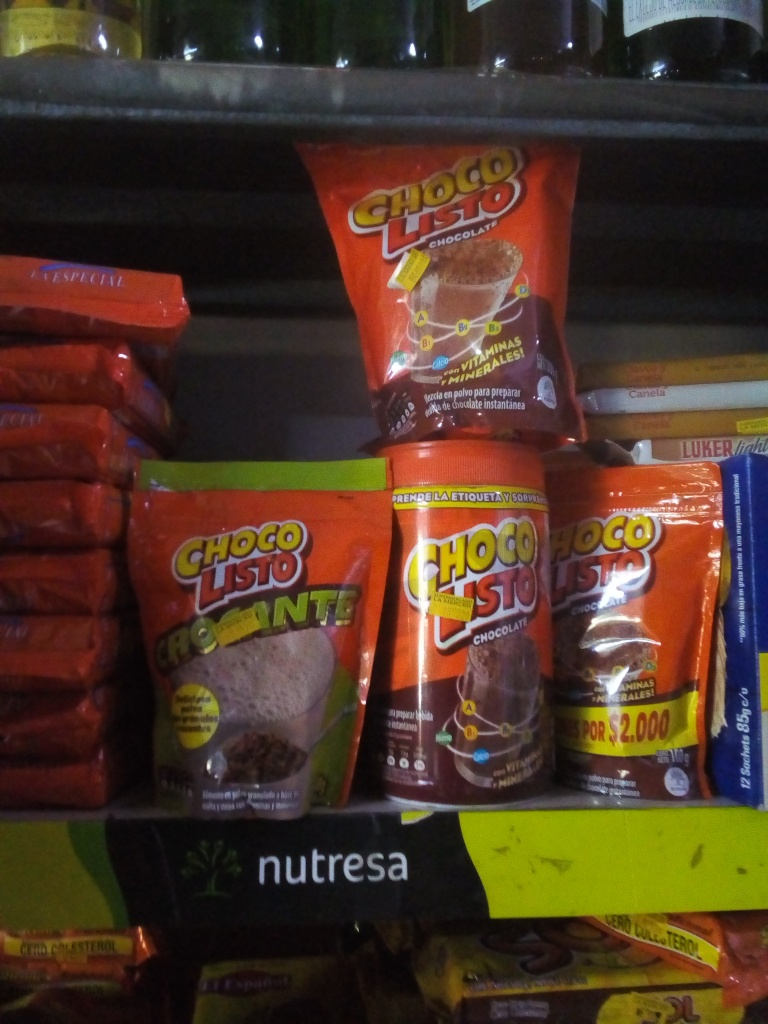COL0170102DYP10000: (130, 458, 385, 817)
COL0170103DYP10000: (549, 466, 721, 806)
COL0170103DYP20000: (302, 139, 592, 437)
COL0170103TRR30000: (375, 441, 560, 814)
